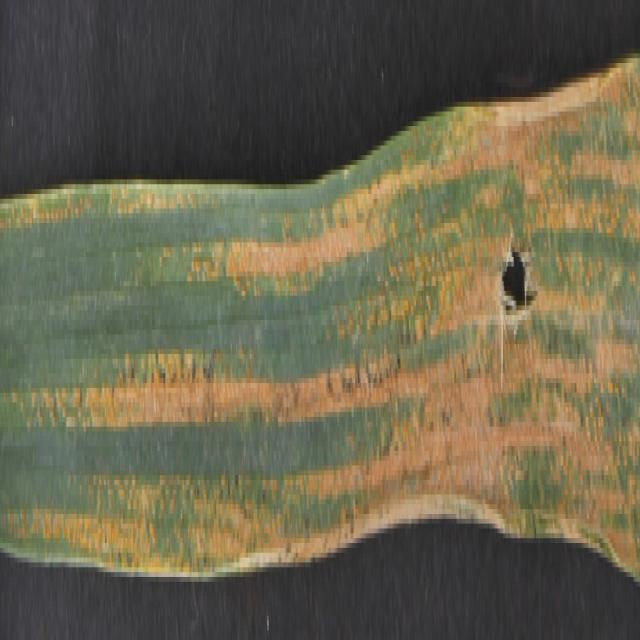leaf rust: (1, 111, 500, 586), (520, 44, 640, 562)
